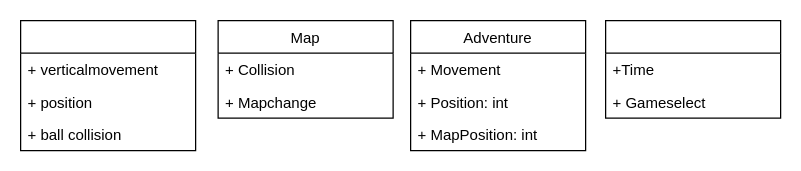
The diagram is 801 pixels wide and 171 high, and some of its shapes have lost their labels. The shapes that lost their labels are listed below. From the top down, each one's box as (x1, y1, x2, y2) in pixels, then its label:
(19, 19, 196, 151): Pong
(604, 19, 781, 118): MainMenu
